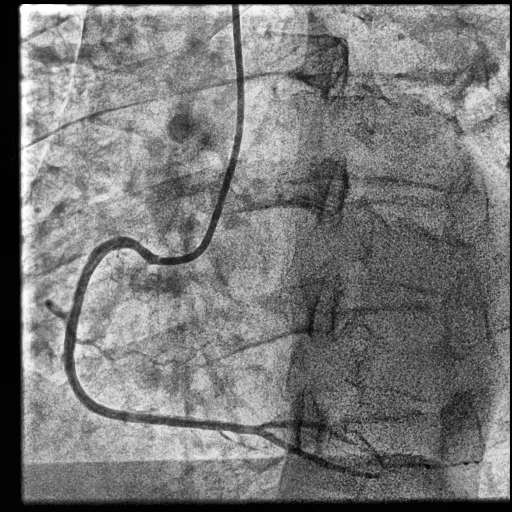pborca: (264, 419, 354, 444)
pda: (258, 429, 459, 478)
rca: (64, 237, 263, 436)
